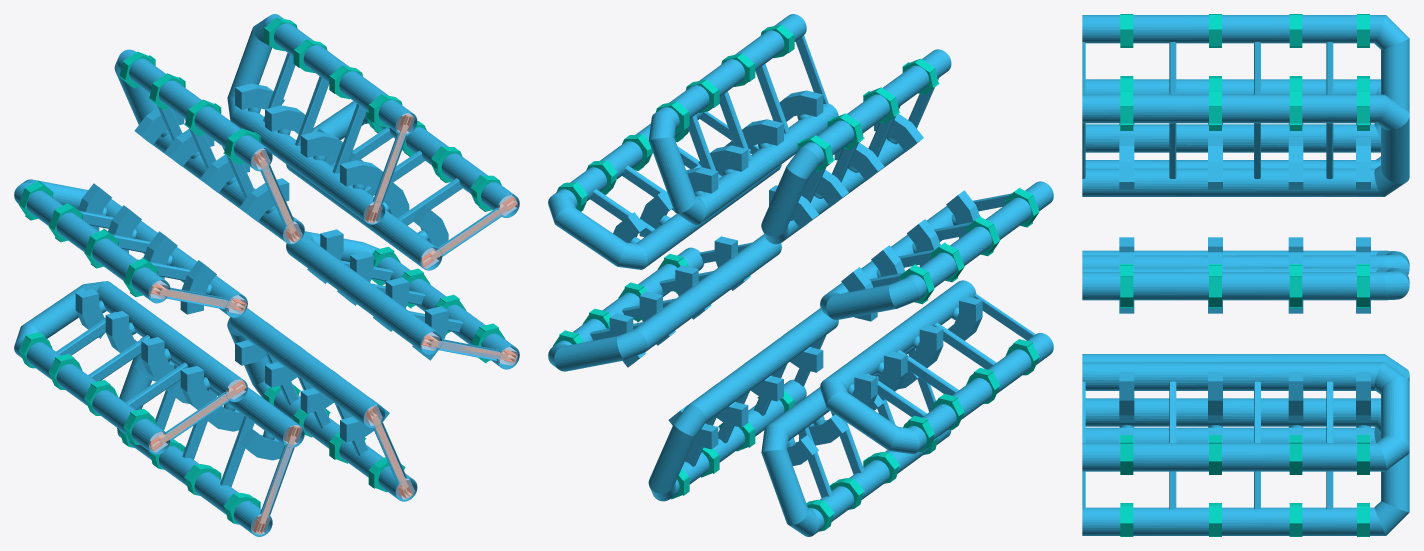
Rendered from Barrel-Toroid-cut1.glb.
The picture shows the model from 3 angles, left to right: view 1: azimuth 30°, elevation 25°; view 2: azimuth 150°, elevation 25°; view 3: azimuth 270°, elevation 25°; orthographic projection. The views are drawn at different scales.
Parts seen in each view (by area): view 1: null; view 2: null; view 3: null.
Part boxes in pixels (x1,y1,x2,y2): null: [14, 14, 519, 536]; null: [548, 14, 1053, 536]; null: [1082, 14, 1409, 536].
Size of the model in its own units: 18.93 by 18.93 by 12.63.
